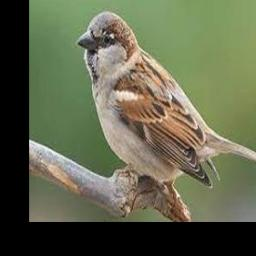Sparrow: (77, 11, 256, 189)
